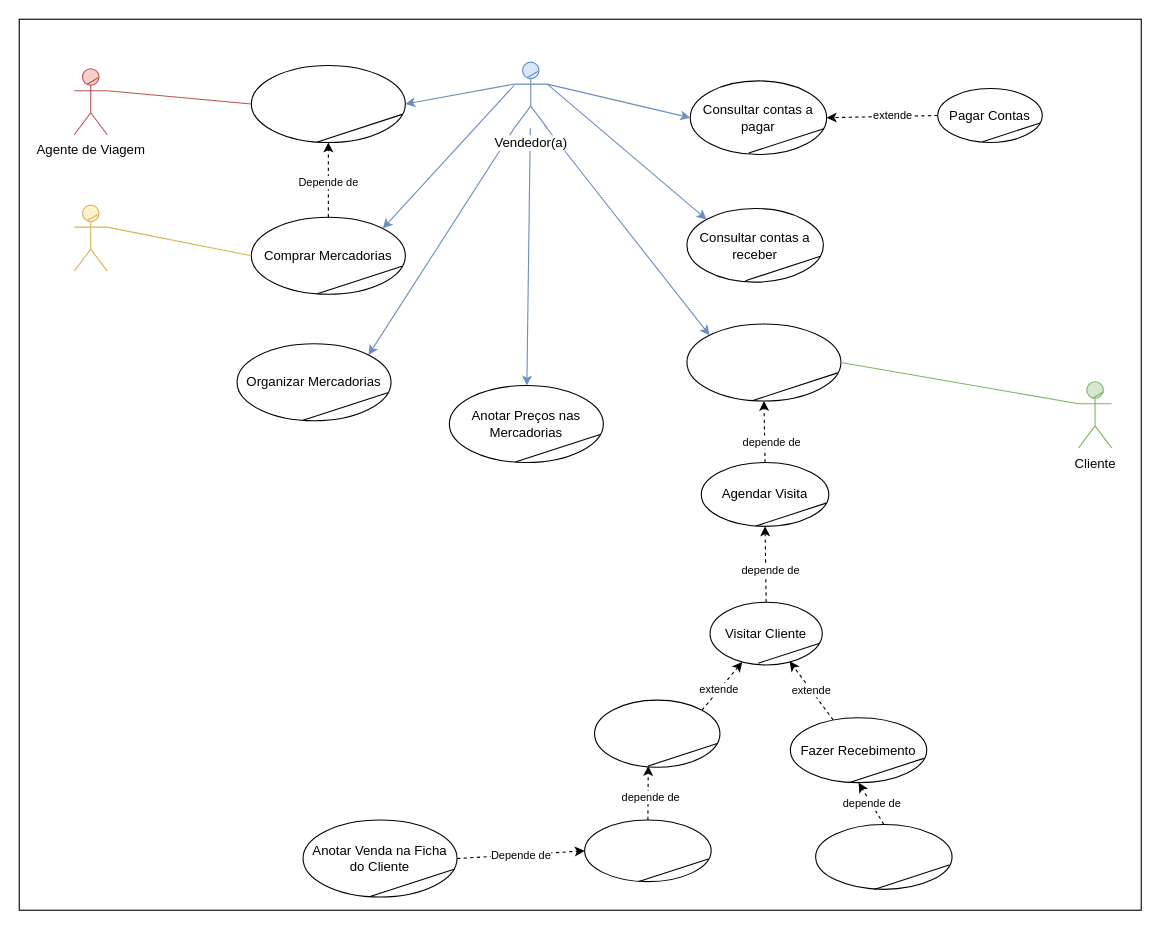
The diagram is 1161 pixels wide and 930 high, and some of its shapes have lost their labels. The centre of each missing label's shape, as x and y in pixels:
Agendar Viagem: the point at 327,103
Dar baixa do pagto. na ficha do cliente: the point at 883,856
Fornecedor: the point at 90,237
Ligar para o Cliente: the point at 763,362
Mostrar Mercadorias: the point at 656,733
Realizar Venda: the point at 647,850
